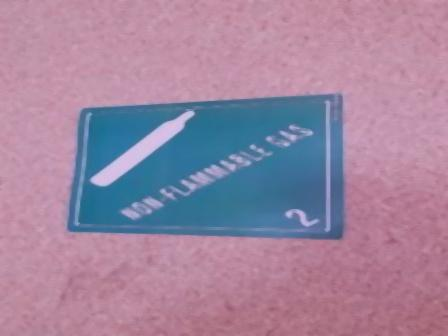non-flammable-gas: (67, 92, 338, 238)
